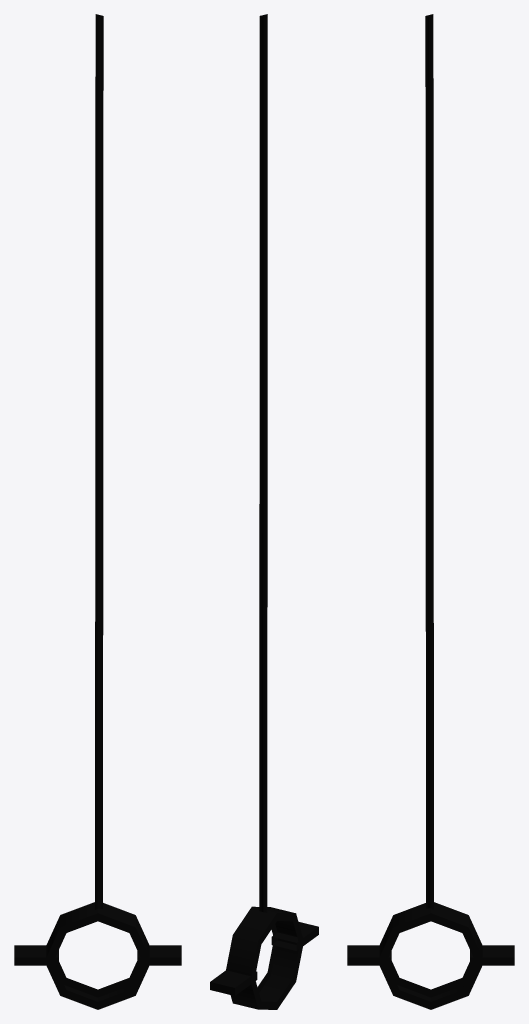
The model's file is MountSmal_B.FBX.
3 renders of one model, left to right at view 1: azimuth 90°, elevation 25°; view 2: azimuth 150°, elevation 25°; view 3: azimuth 270°, elevation 25°, orthographic.
Visible parts, largest first — view 1: MountSmal_B; view 2: MountSmal_B; view 3: MountSmal_B.
Boxes of the visible parts, x1,y1,x2,y2 form: MountSmal_B: [14, 14, 181, 1009]; MountSmal_B: [210, 14, 318, 1009]; MountSmal_B: [347, 14, 514, 1009].
Bounding box in the file's own units: 0.6474 × 24.12 × 3.7.
